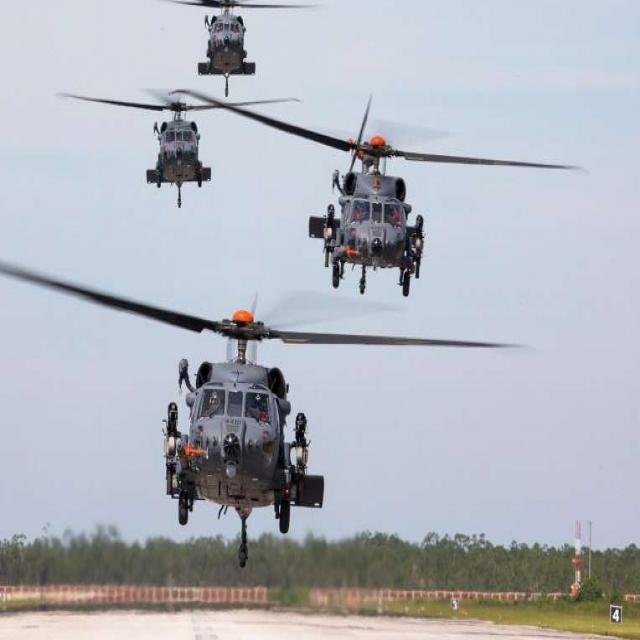helicopter: (1, 238, 538, 572), (181, 86, 586, 273), (58, 85, 307, 209), (129, 1, 327, 78)
